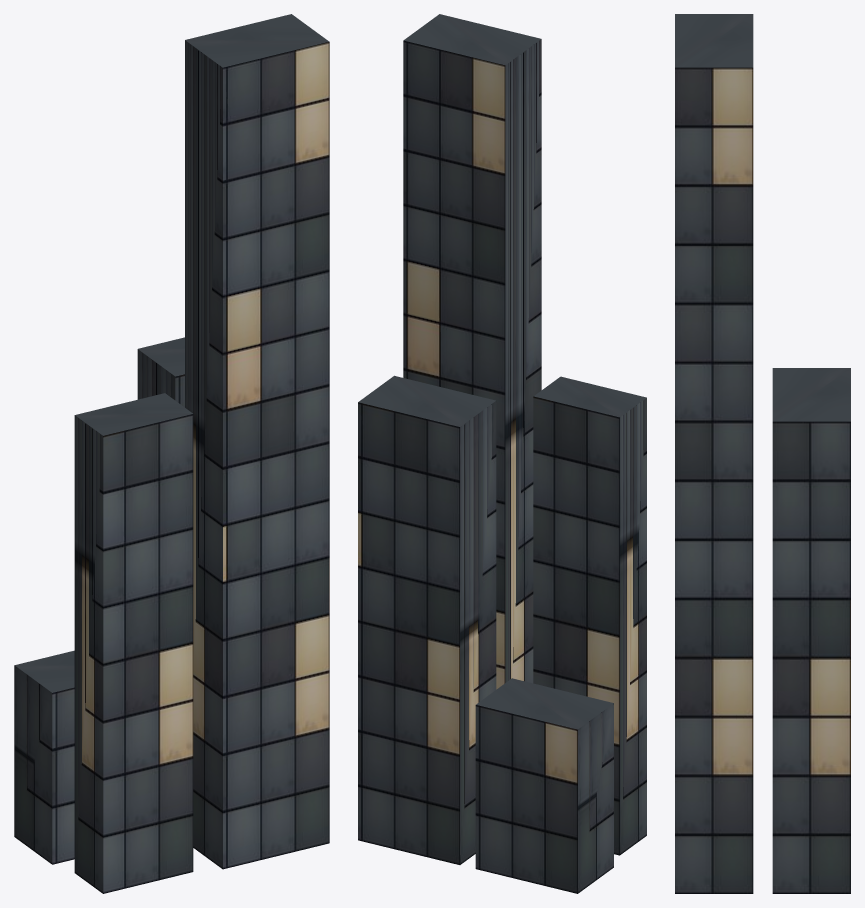
Rendered from block_33.obj.
3 renders of one model, left to right at view 1: azimuth 30°, elevation 25°; view 2: azimuth 150°, elevation 25°; view 3: azimuth 270°, elevation 25°, orthographic. The views are drawn at different scales.
Visible parts, largest first — view 1: b3, b1, b0, b2; view 2: b3, b2, b1, b0; view 3: b3, b2.
Boxes of the visible parts, bbox=[...] form: b3: bbox=[185, 14, 329, 869]; b1: bbox=[74, 393, 193, 893]; b0: bbox=[14, 650, 74, 864]; b2: bbox=[137, 337, 184, 407]; b3: bbox=[403, 14, 541, 689]; b2: bbox=[358, 375, 496, 864]; b1: bbox=[533, 376, 646, 855]; b0: bbox=[475, 678, 613, 893]; b3: bbox=[675, 14, 753, 893]; b2: bbox=[772, 368, 850, 893].
Bounding box in the file's own units: 4.2 × 14 × 2.7.
